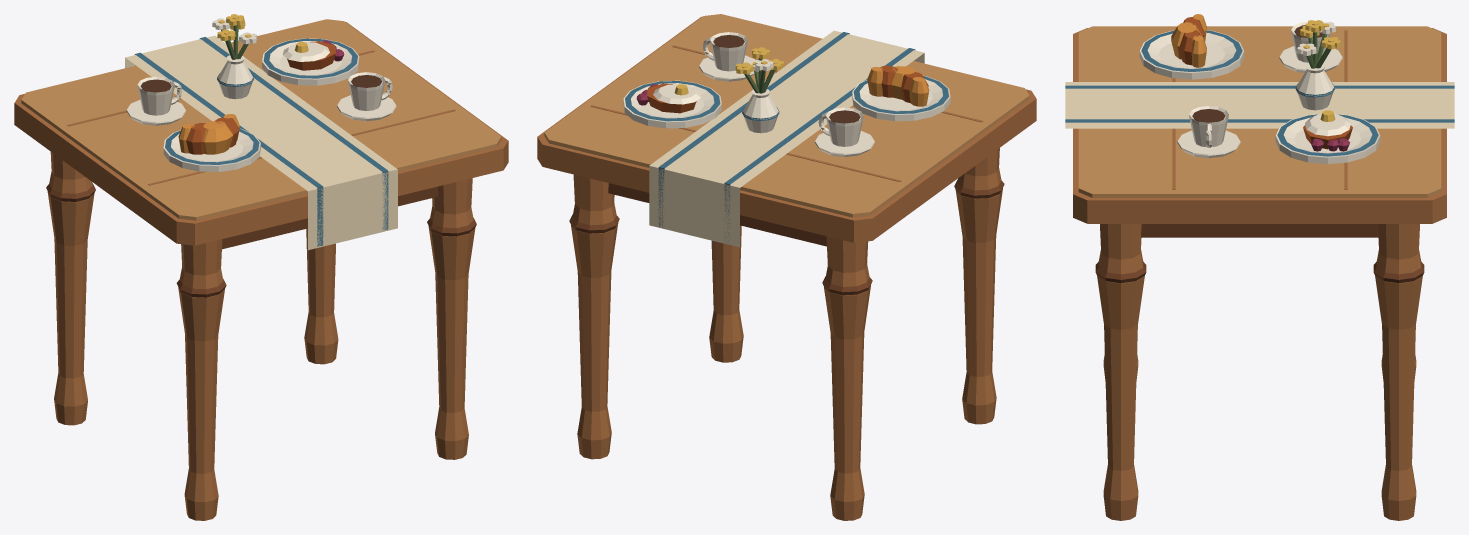
The model's file is dining-window.glb.
3 renders of one model, left to right at view 1: azimuth 30°, elevation 25°; view 2: azimuth 150°, elevation 25°; view 3: azimuth 270°, elevation 25°, orthographic. The views are drawn at different scales.
Parts seen in each view (by area): view 1: dining-window; view 2: dining-window; view 3: dining-window.
Part boxes in pixels (bbox=[...]): dining-window: bbox=[14, 14, 508, 520]; dining-window: bbox=[537, 14, 1036, 520]; dining-window: bbox=[1065, 14, 1454, 520].
Bounding box in the file's own units: 0.96 × 1.11 × 0.916.
